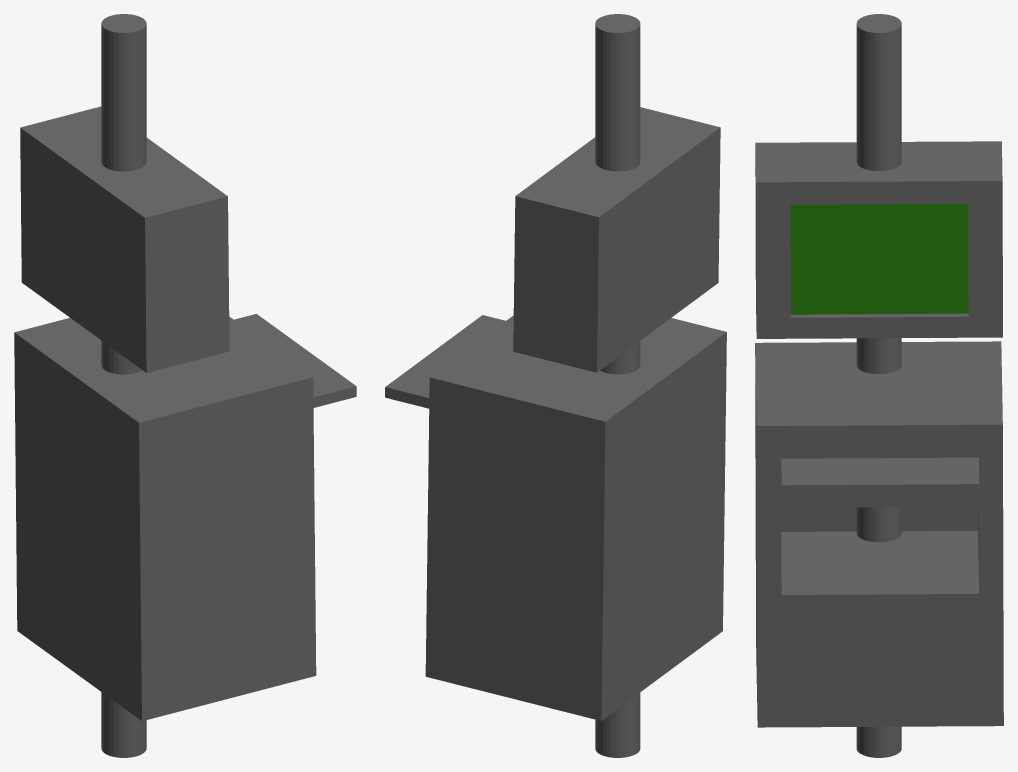
Rendered from exports obj.obj.
3 views of the same model, side by side, from view 1: azimuth 30°, elevation 25°; view 2: azimuth 150°, elevation 25°; view 3: azimuth 270°, elevation 25° (orthographic).
Parts seen in each view (by area): view 1: Cube.14135_Cube.14152; view 2: Cube.14135_Cube.14152; view 3: Cube.14135_Cube.14152.
Part boxes in pixels (left/top/right/bottom): Cube.14135_Cube.14152: left=14, top=14, right=356, bottom=757; Cube.14135_Cube.14152: left=385, top=14, right=726, bottom=757; Cube.14135_Cube.14152: left=755, top=14, right=1003, bottom=757.
Size of the model in its own units: 2.01 by 5.98 by 1.86.
